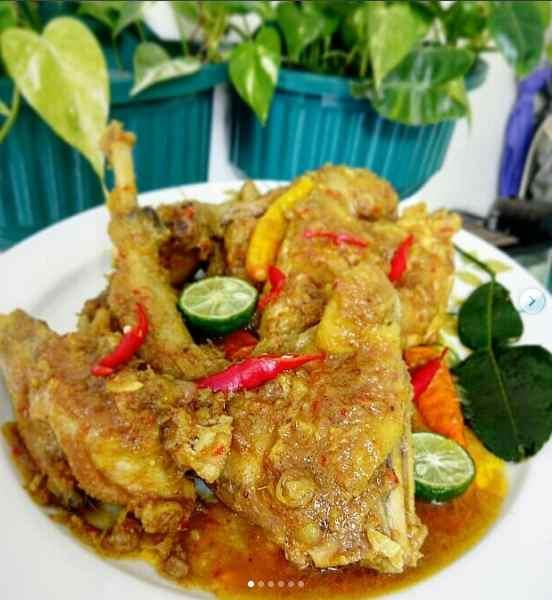ayam_betutu: (1, 121, 461, 576)
